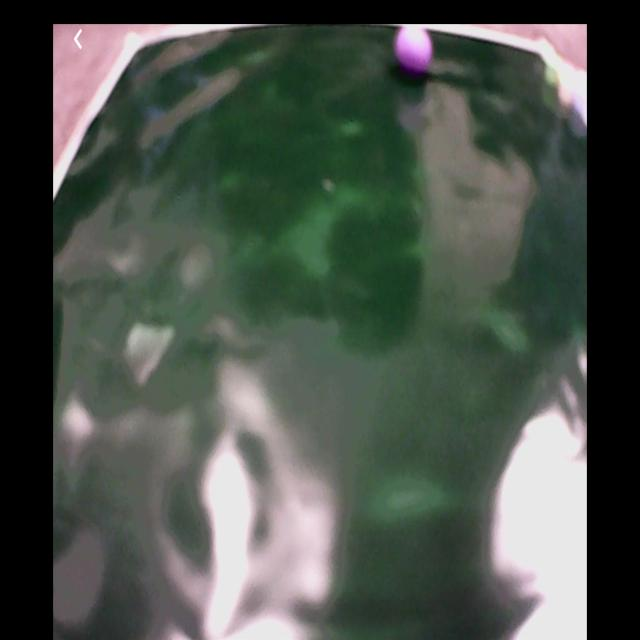ball: (396, 26, 434, 76)
